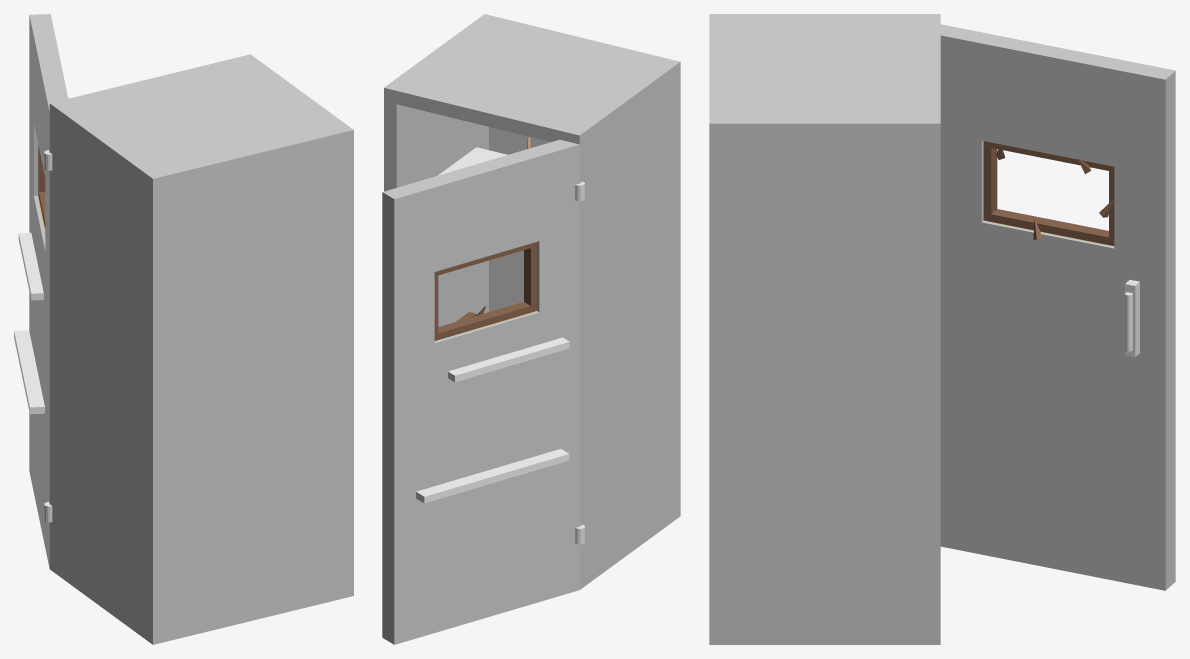
Rendered from fridge_gutted.glb.
3 renders of one model, left to right at view 1: azimuth 30°, elevation 25°; view 2: azimuth 150°, elevation 25°; view 3: azimuth 270°, elevation 25°, orthographic. The views are drawn at different scales.
Parts seen in each view (by area): view 1: Fridge_BackWall, Fridge_LeftWall, Fridge_Roof, Fridge_RightWall, Fridge_Door_BottomSlab, Fridge_Door_TopSlab, Fridge_DoorRackStub_1, Fridge_DoorRackStub_2, Fridge_Door_RightPost; view 2: Fridge_Door_BottomSlab, Fridge_LeftWall, Fridge_Roof, Fridge_Door_TopSlab, Fridge_RightWall, Fridge_Door_RightPost, Fridge_Door_LeftPost, Fridge_InnerBack, Fridge_DoorRackStub_1, Fridge_DoorRackStub_2, Fridge_Hole_TornBot, Fridge_Hole_TornLeft (+2 smaller); view 3: Fridge_RightWall, Fridge_Door_BottomSlab, Fridge_Roof, Fridge_Door_TopSlab, Fridge_Door_RightPost, Fridge_Door_LeftPost, Fridge_Hole_TornBot, Fridge_Hole_TornLeft, Fridge_Hole_TornTop, Fridge_HandleBase.
Part boxes in pixels (left/top/right/bottom): Fridge_BackWall: left=159, top=133, right=340, bottom=641; Fridge_LeftWall: left=49, top=103, right=165, bottom=644; Fridge_Roof: left=49, top=54, right=353, bottom=192; Fridge_RightWall: left=315, top=103, right=353, bottom=598; Fridge_Door_BottomSlab: left=29, top=175, right=49, bottom=567; Fridge_Door_TopSlab: left=29, top=14, right=68, bottom=197; Fridge_DoorRackStub_1: left=14, top=330, right=44, bottom=414; Fridge_DoorRackStub_2: left=18, top=232, right=43, bottom=300; Fridge_Door_RightPost: left=29, top=102, right=38, bottom=195; Fridge_Door_BottomSlab: left=382, top=300, right=579, bottom=644; Fridge_LeftWall: left=567, top=62, right=680, bottom=589; Fridge_Roof: left=384, top=14, right=679, bottom=142; Fridge_Door_TopSlab: left=382, top=139, right=579, bottom=283; Fridge_RightWall: left=384, top=88, right=488, bottom=326; Fridge_Door_RightPost: left=382, top=272, right=434, bottom=355; Fridge_Door_LeftPost: left=537, top=229, right=579, bottom=312; Fridge_InnerBack: left=489, top=127, right=550, bottom=311; Fridge_DoorRackStub_1: left=416, top=449, right=569, bottom=503; Fridge_DoorRackStub_2: left=448, top=337, right=569, bottom=382; Fridge_Hole_TornBot: left=434, top=302, right=536, bottom=340; Fridge_Hole_TornLeft: left=524, top=242, right=536, bottom=311; Fridge_RightWall: left=709, top=116, right=940, bottom=644; Fridge_Door_BottomSlab: left=940, top=214, right=1175, bottom=590; Fridge_Roof: left=709, top=14, right=940, bottom=138; Fridge_Door_TopSlab: left=940, top=24, right=1175, bottom=176; Fridge_Door_RightPost: left=1114, top=167, right=1175, bottom=258; Fridge_Door_LeftPost: left=940, top=132, right=983, bottom=222; Fridge_Hole_TornBot: left=983, top=209, right=1114, bottom=245; Fridge_Hole_TornLeft: left=983, top=146, right=997, bottom=214; Fridge_Hole_TornTop: left=983, top=141, right=1114, bottom=171; Fridge_HandleBase: left=1125, top=280, right=1139, bottom=357.
Bounding box in the file's own units: 0.942 × 2.04 × 1.65.
